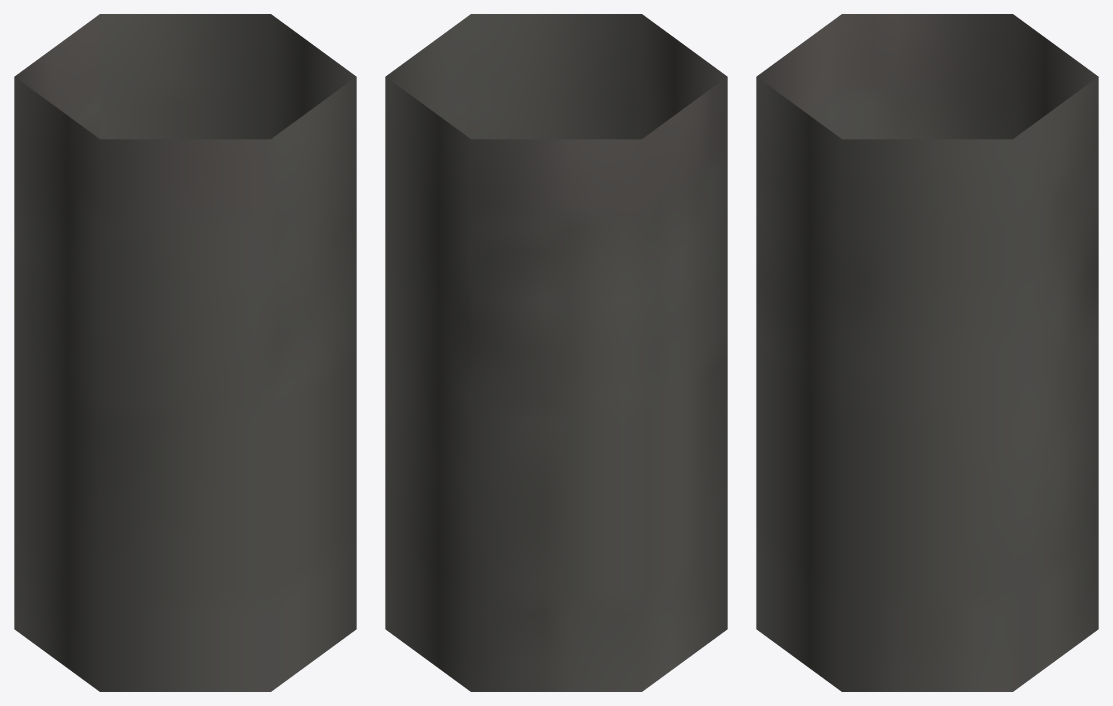
File: cable_2cm.gltf
3 renders of one model, left to right at view 1: azimuth 30°, elevation 25°; view 2: azimuth 150°, elevation 25°; view 3: azimuth 270°, elevation 25°, orthographic.
Visible parts, largest first — view 1: cable_2cm; view 2: cable_2cm; view 3: cable_2cm.
Part boxes in pixels (left/top/right/bottom): cable_2cm: left=14, top=14, right=356, bottom=691; cable_2cm: left=385, top=14, right=727, bottom=691; cable_2cm: left=756, top=14, right=1098, bottom=691.
Bounding box in the file's own units: 0.00971 × 0.02 × 0.0112.
Materials: 1 (1 with a texture image).
